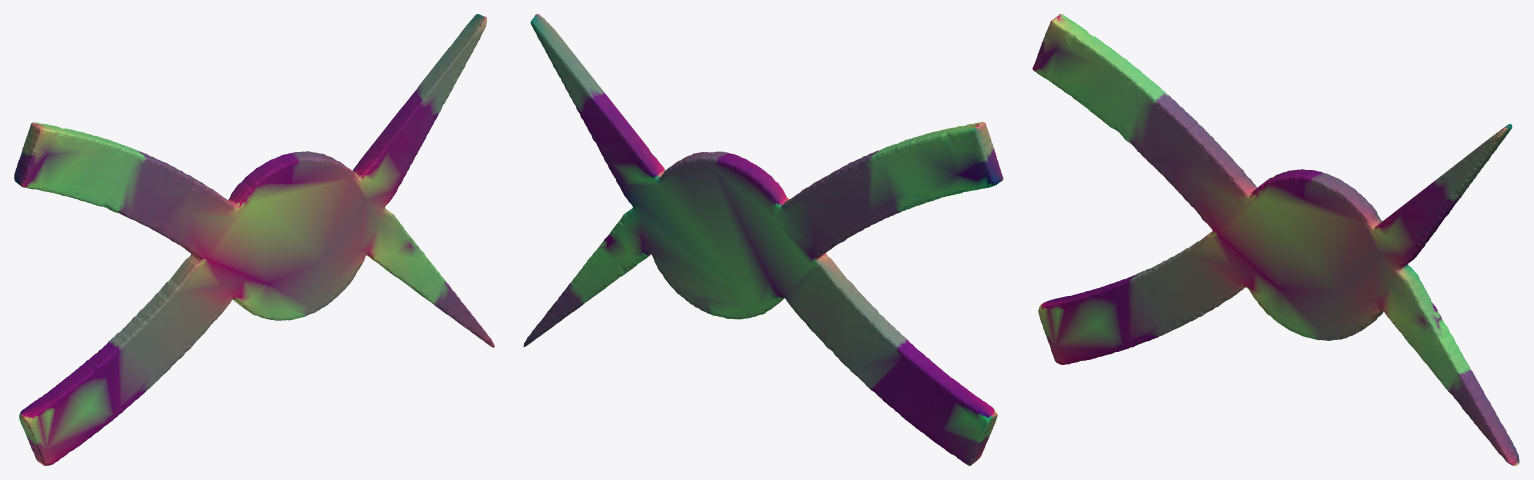
Rendered from scissor-13.off.obj.
3 renders of one model, left to right at view 1: azimuth 30°, elevation 25°; view 2: azimuth 150°, elevation 25°; view 3: azimuth 330°, elevation 25°, orthographic.
Size of the model in its own units: 1.45 by 0.9949 by 0.0577.
